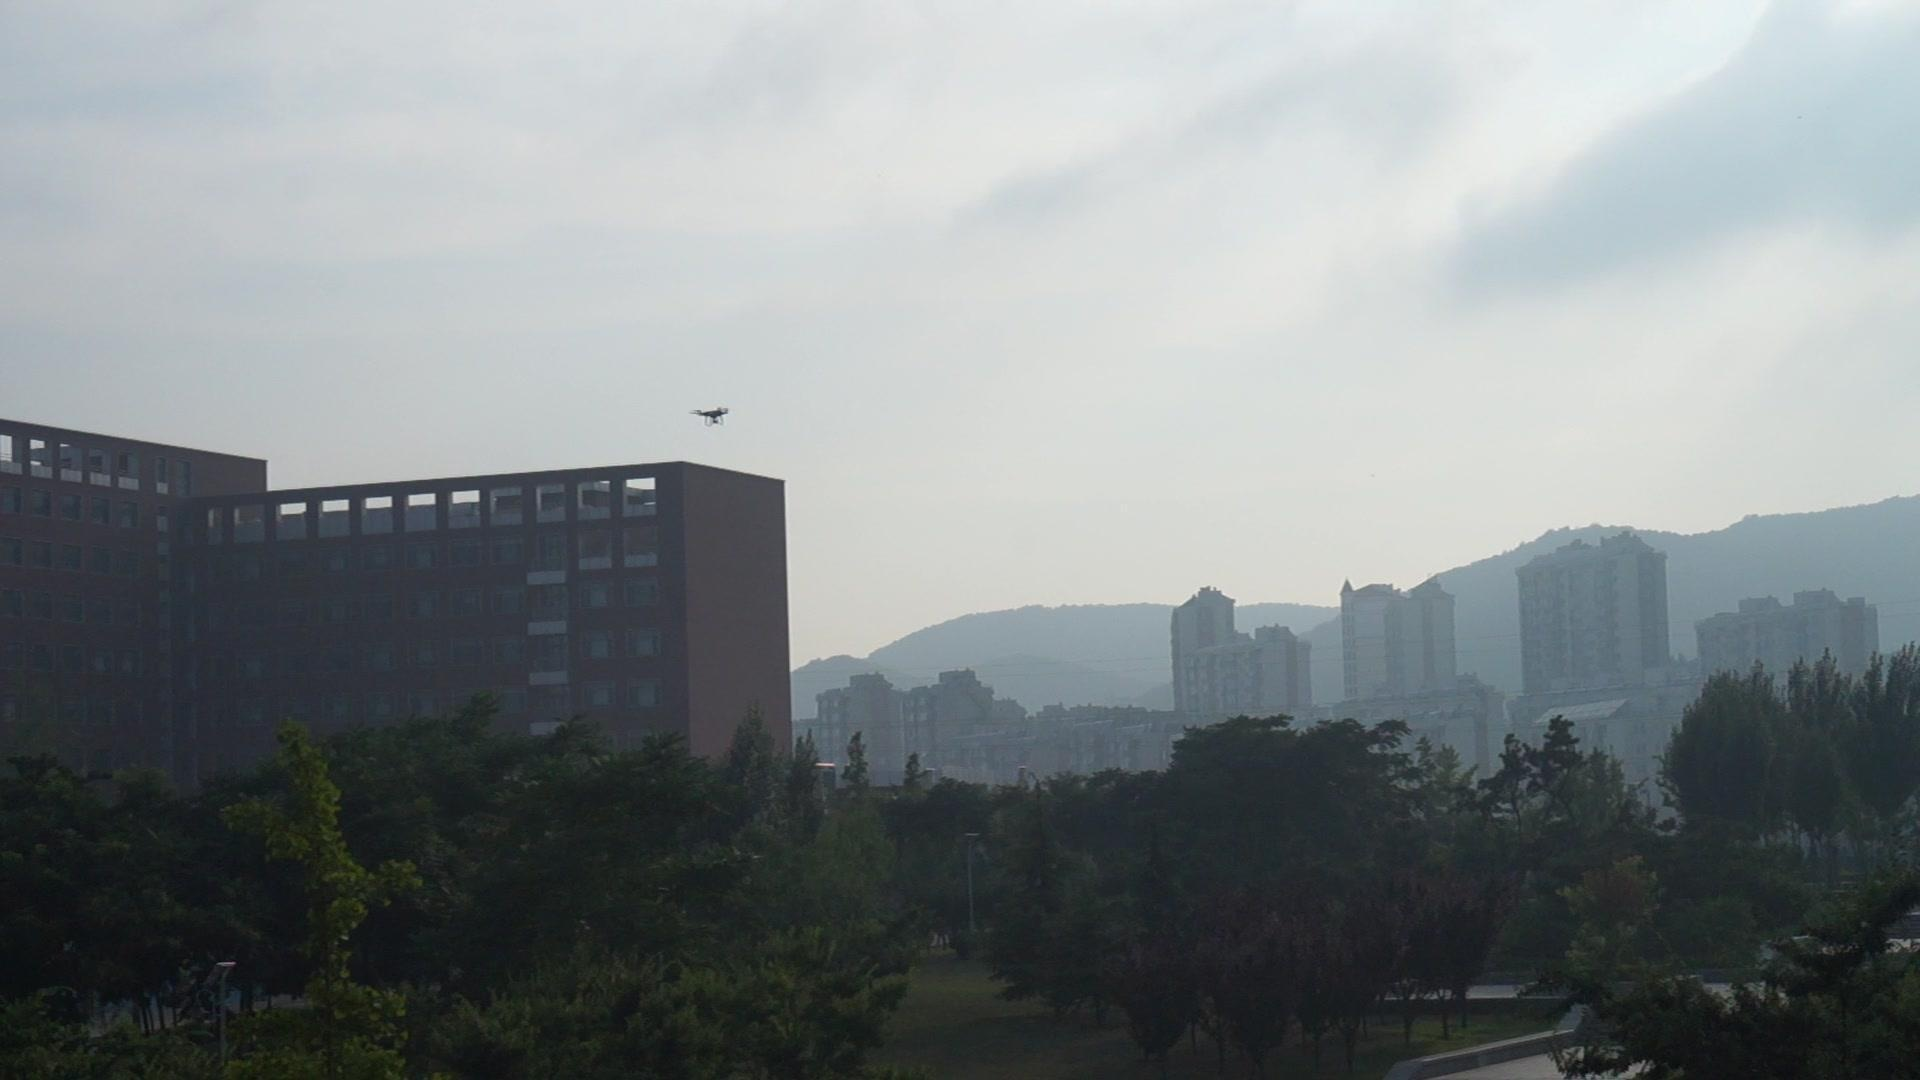UAV: (688, 407, 731, 427)
